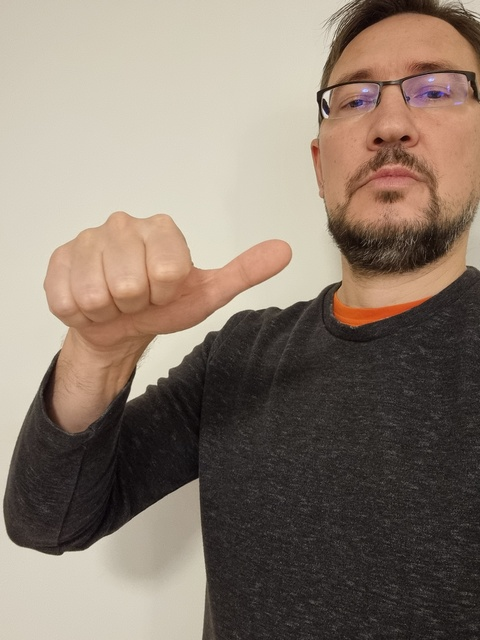GestBack: (47, 212, 293, 332)
